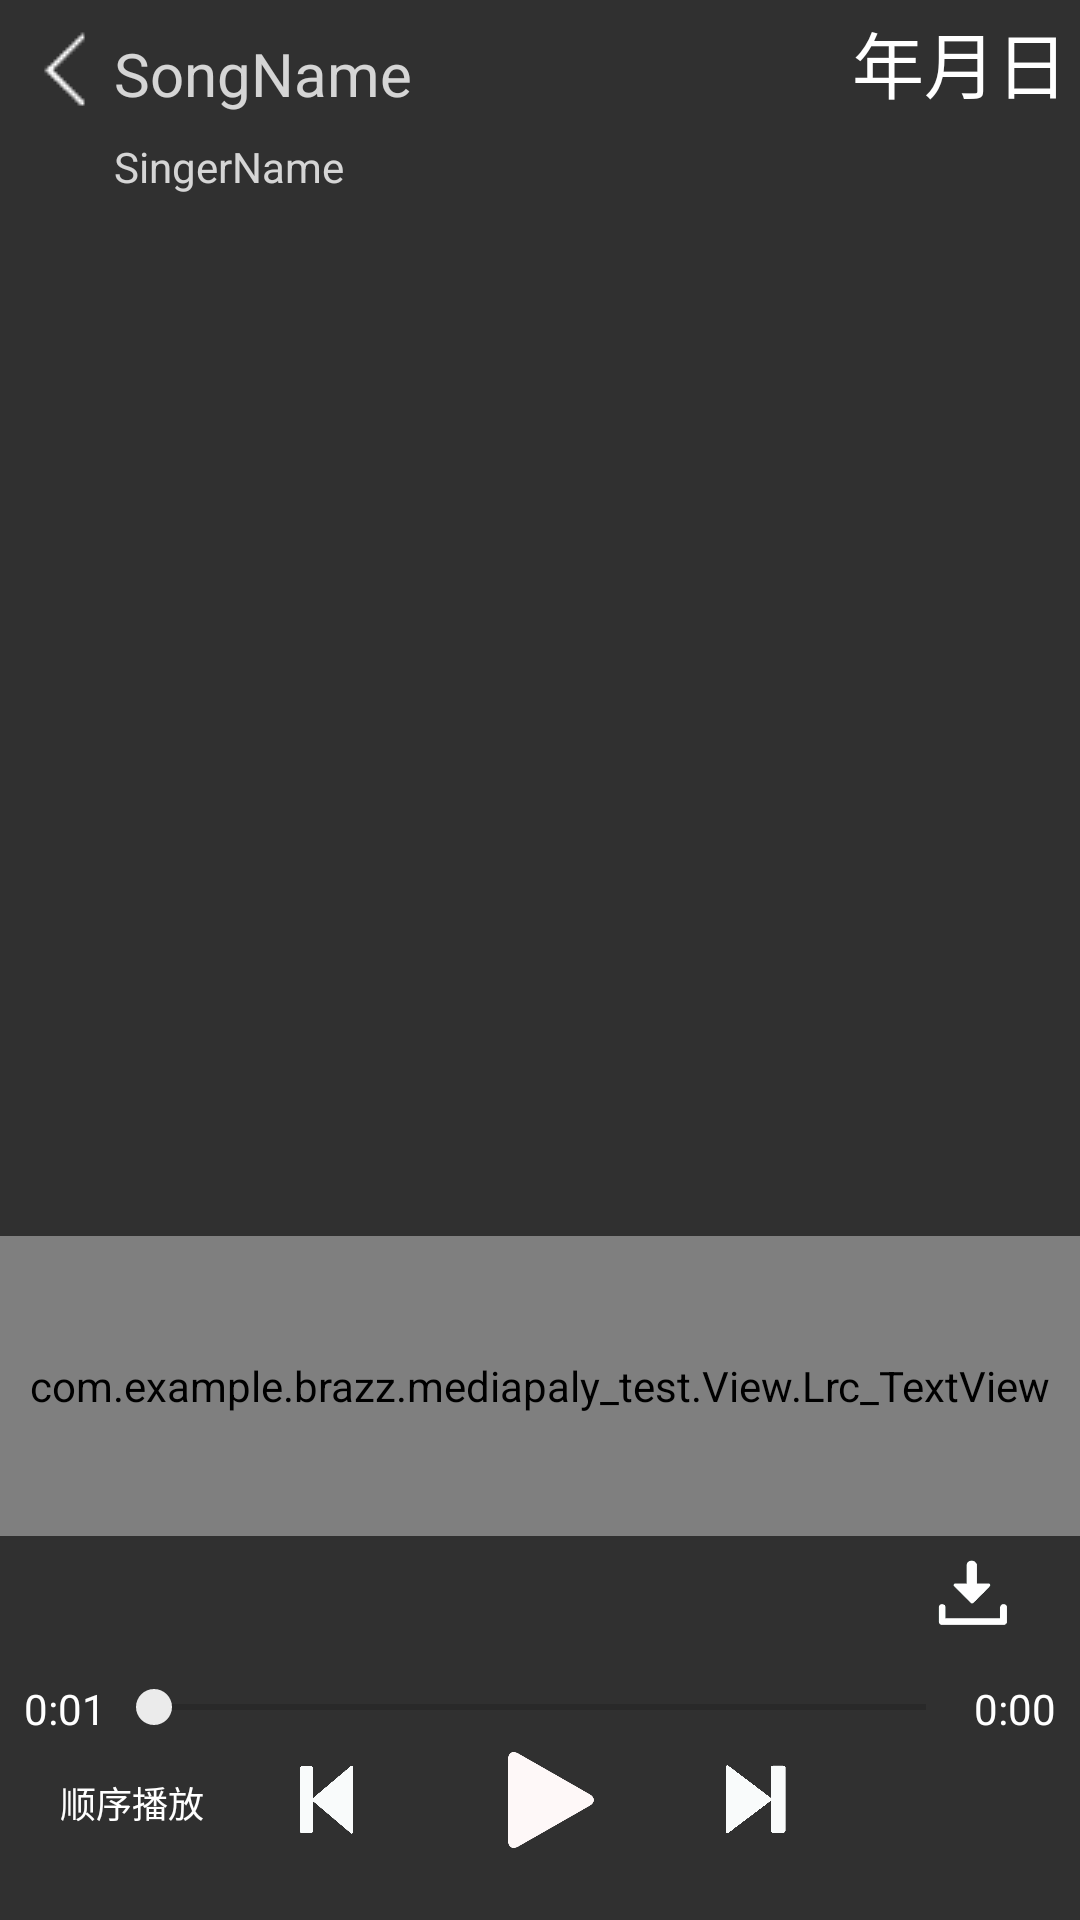

Named icons in this screenshot (1080×1920) and their bounding boxes, (x1, y1, x2, y2):
back: (44, 32, 85, 106)
download: (938, 1560, 1007, 1625)
play: (508, 1752, 594, 1848)
